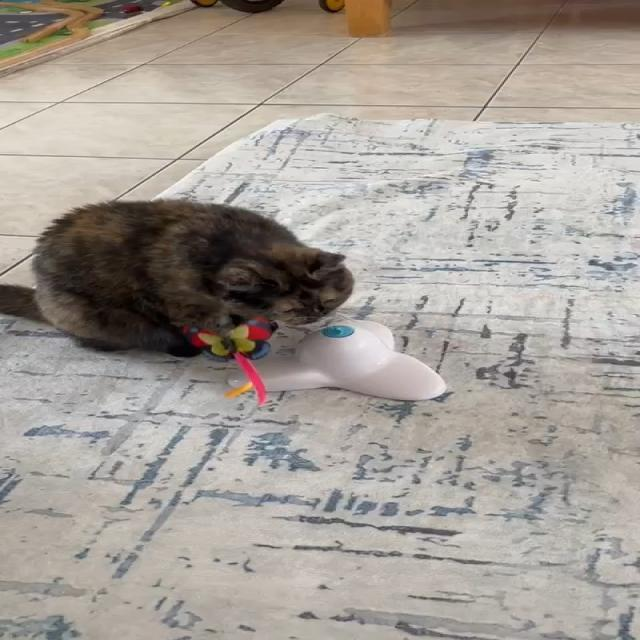authorized: (0, 198, 355, 358)
